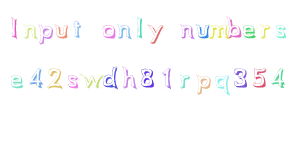1: (159, 65, 177, 91)
2: (47, 65, 64, 90)
3: (231, 64, 250, 89)
4: (270, 64, 290, 91), (29, 67, 46, 89)
5: (252, 64, 269, 91)
8: (139, 64, 157, 91)
I: (4, 14, 22, 42)
b: (227, 15, 241, 42)
d: (101, 64, 120, 90)
e: (4, 69, 26, 90), (242, 20, 256, 43)
h: (121, 65, 138, 93)
l: (134, 12, 145, 41)
m: (208, 21, 229, 43)
n: (177, 21, 197, 44), (116, 22, 135, 42), (22, 21, 39, 42)
o: (99, 19, 116, 42)
p: (37, 21, 54, 47), (195, 71, 212, 97)
q: (213, 73, 231, 97)
r: (256, 19, 272, 43), (179, 70, 193, 91)
s: (274, 21, 291, 44), (65, 70, 80, 91)
t: (71, 18, 88, 41)
u: (54, 20, 69, 42), (195, 21, 209, 40)
w: (80, 70, 103, 92)
y: (146, 20, 165, 47)
